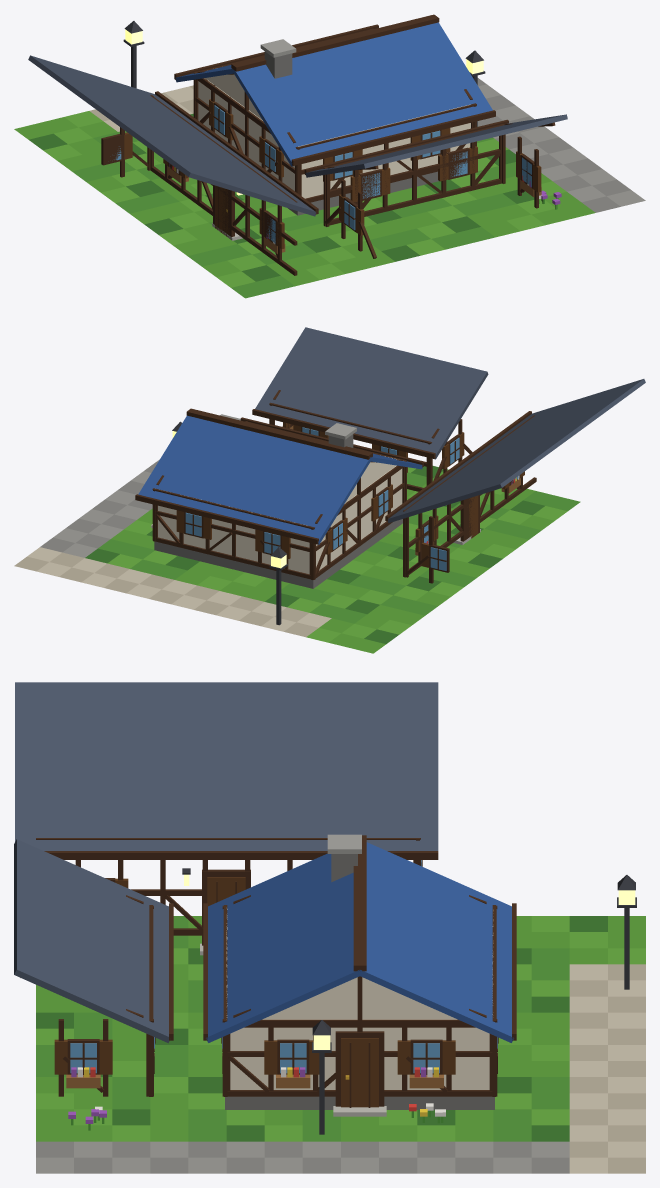
File: chunk_5_12.glb
The picture shows the model from 3 angles, top to bottom: view 1: azimuth 30°, elevation 25°; view 2: azimuth 150°, elevation 25°; view 3: azimuth 270°, elevation 25°; orthographic projection. The views are drawn at different scales.
Visible parts, largest first — view 1: chunk_5_12; view 2: chunk_5_12; view 3: chunk_5_12.
Part boxes in pixels (x1,y1,x2,y2): chunk_5_12: (14,14,645,298); chunk_5_12: (14,327,645,653); chunk_5_12: (14,682,645,1173).
Bounding box in the file's own units: 18.58 × 5.6 × 16.57.
